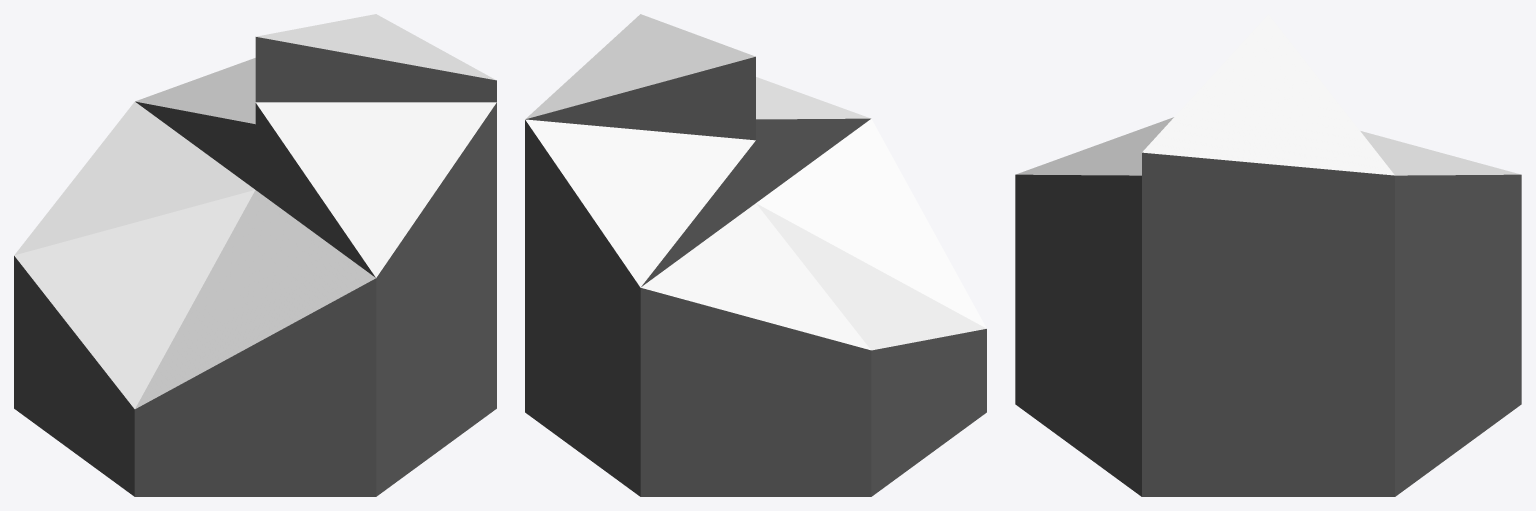
The model's file is snow_peak.fbx.
The picture shows the model from 3 angles, left to right: view 1: azimuth 30°, elevation 25°; view 2: azimuth 150°, elevation 25°; view 3: azimuth 270°, elevation 25°; orthographic projection. The views are drawn at different scales.
Parts seen in each view (by area): view 1: Cylinder; view 2: Cylinder; view 3: Cylinder.
Boxes of the visible parts, box(x1,y1,x2,y2) form: Cylinder: box(14, 14, 496, 496); Cylinder: box(525, 14, 986, 496); Cylinder: box(1015, 14, 1521, 496).
Bounding box in the file's own units: 1.73 × 1.7 × 2.
